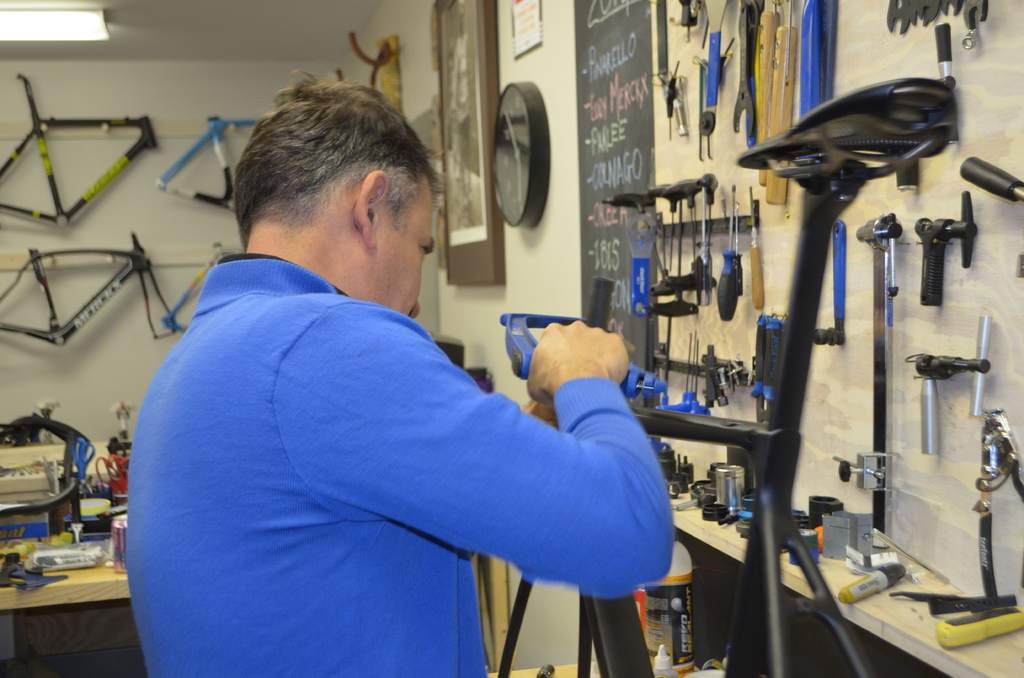Human_hand: (526, 319, 627, 405)
